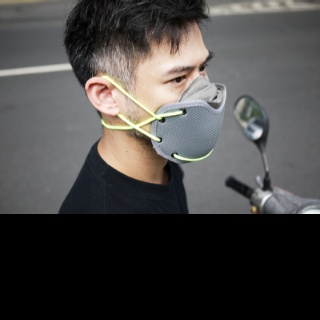with_mask: (121, 51, 228, 165)
